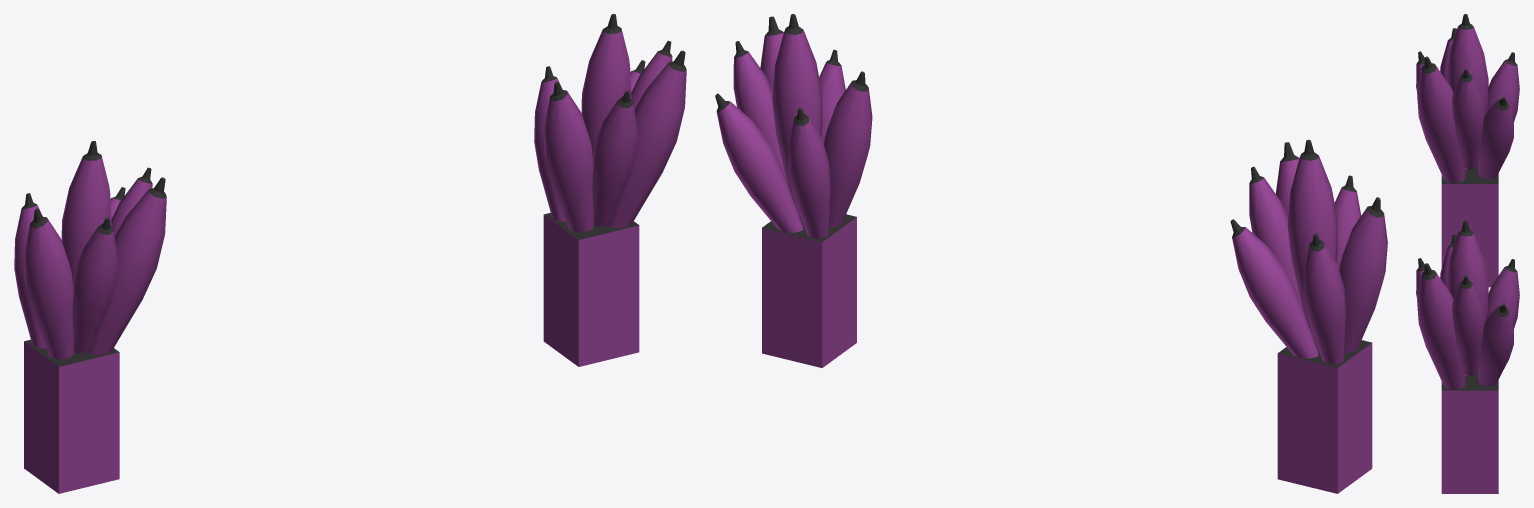
The model's file is vase fleurs couloir1.FBX.
3 views of the same model, side by side, from view 1: azimuth 30°, elevation 25°; view 2: azimuth 150°, elevation 25°; view 3: azimuth 270°, elevation 25° (orthographic). The views are drawn at different scales.
Visible parts, largest first — view 1: plantes sein011, plantes sein010, pot d'arbuste unity015, pot d'arbuste unity014; view 2: plantes sein011, plantes sein010, pot d'arbuste unity014, pot d'arbuste unity015; view 3: plantes sein010, plantes sein011, pot d'arbuste unity015, pot d'arbuste unity014.
Boxes of the visible parts, x1,y1,x2,y2 form: plantes sein011: [534, 14, 686, 232]; plantes sein010: [14, 141, 166, 359]; pot d'arbuste unity015: [543, 213, 639, 366]; pot d'arbuste unity014: [24, 339, 119, 493]; plantes sein011: [715, 14, 872, 238]; plantes sein010: [1230, 139, 1387, 364]; pot d'arbuste unity014: [1277, 340, 1372, 493]; pot d'arbuste unity015: [762, 214, 856, 367]; plantes sein010: [1416, 14, 1519, 183]; plantes sein011: [1416, 220, 1519, 389]; pot d'arbuste unity015: [1441, 372, 1498, 493]; pot d'arbuste unity014: [1441, 165, 1498, 287].
Bounding box in the file's own units: 341 × 165 × 57.88.
